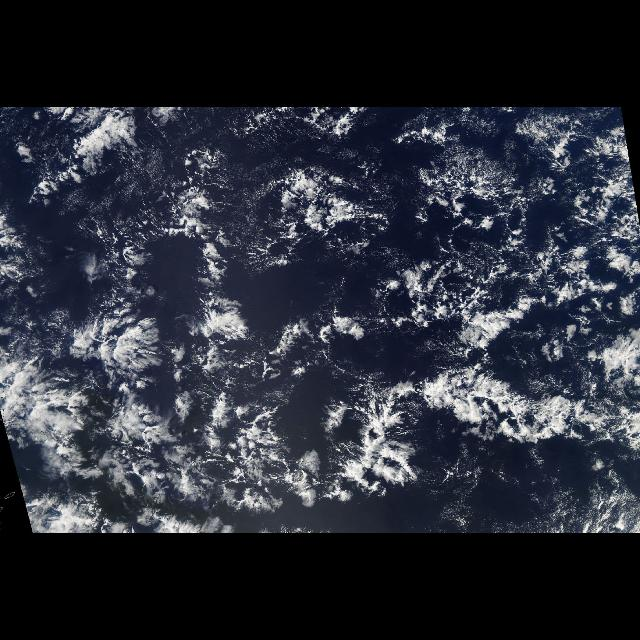Fish: (28, 190, 398, 332), (321, 362, 633, 480)
